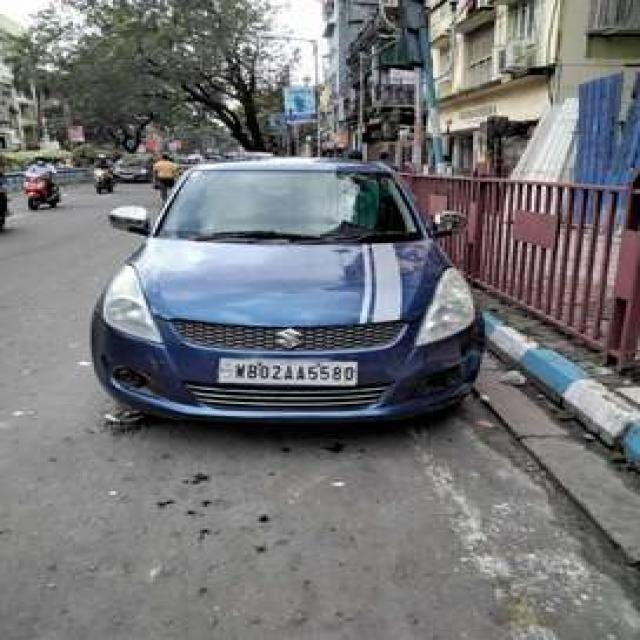Plate: (215, 356, 356, 386)
